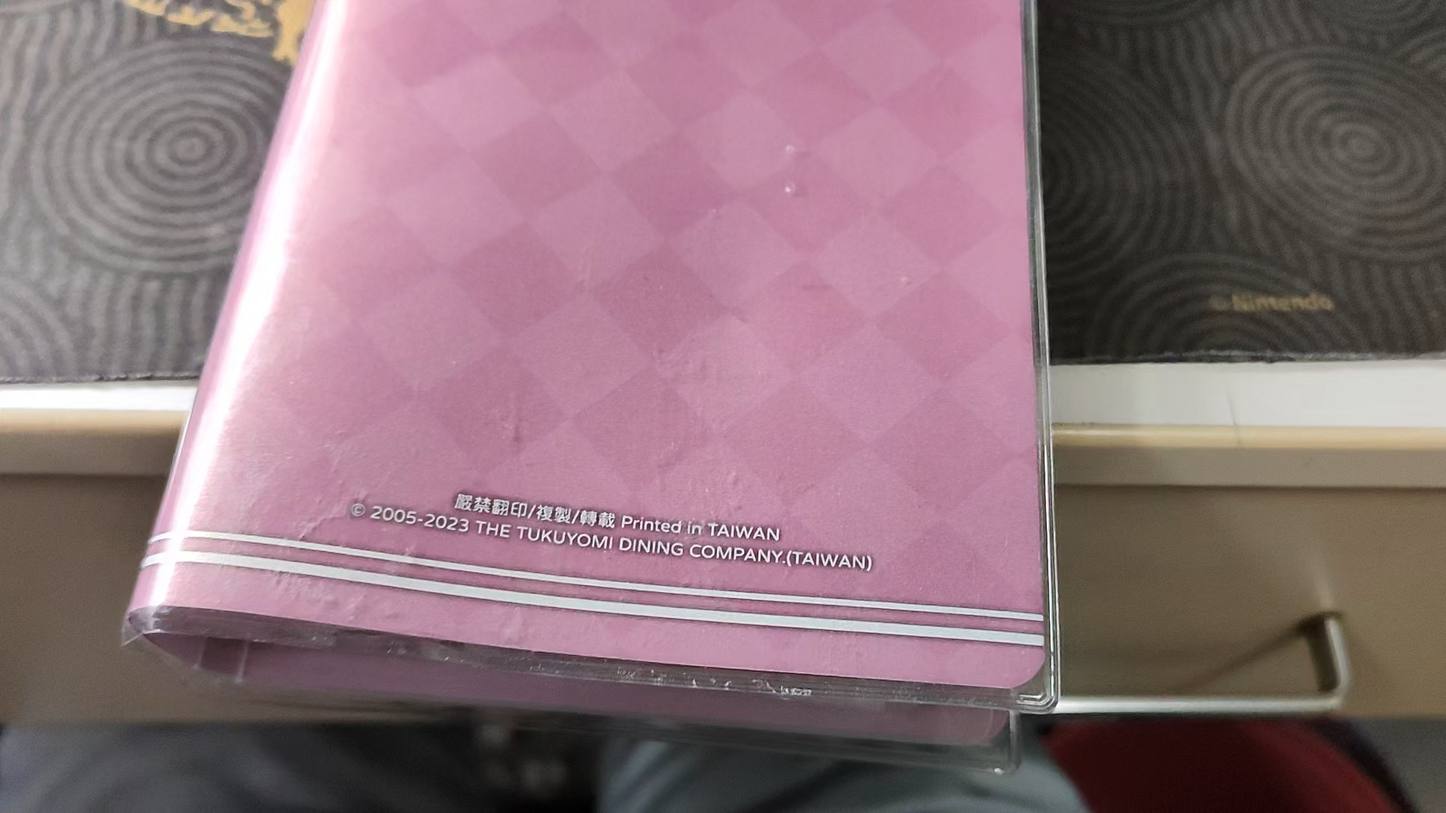Photo_book: (120, 0, 1066, 778)
